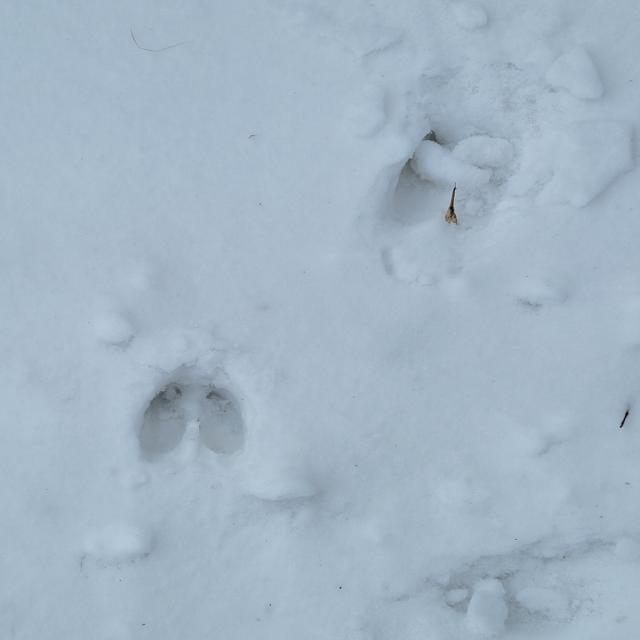deer: (400, 125, 510, 243), (135, 376, 252, 464)
